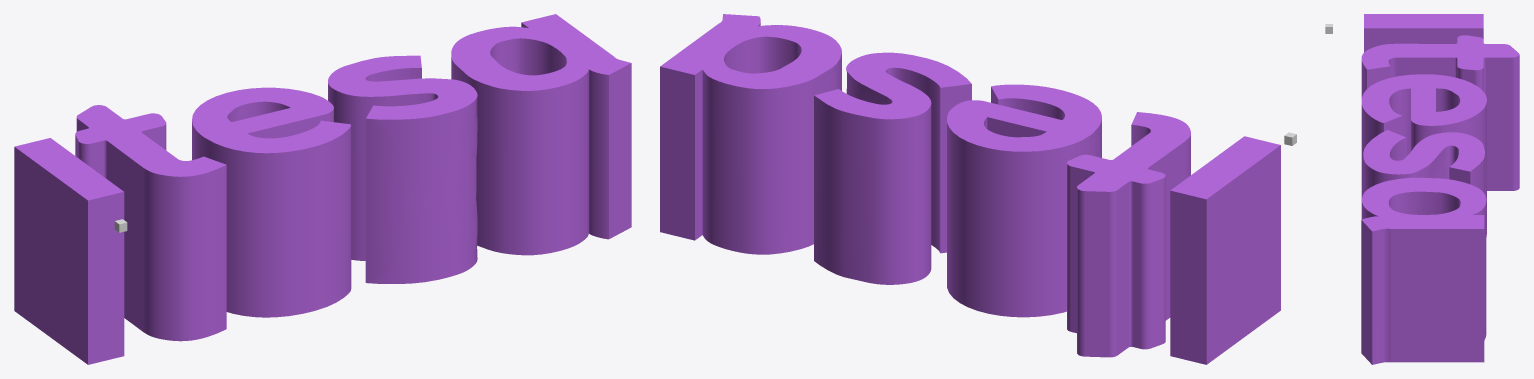
File: itesa.gltf
3 views of the same model, side by side, from view 1: azimuth 30°, elevation 25°; view 2: azimuth 150°, elevation 25°; view 3: azimuth 270°, elevation 25° (orthographic). The views are drawn at different scales.
Visible parts, largest first — view 1: Untitled v2; view 2: Untitled v2; view 3: Untitled v2.
Part boxes in pixels (x1,y1,x2,y2): Untitled v2: (14, 14, 631, 364); Untitled v2: (660, 14, 1280, 364); Untitled v2: (1361, 14, 1519, 364).
Bounding box in the file's own units: 136 × 39 × 51.38.
